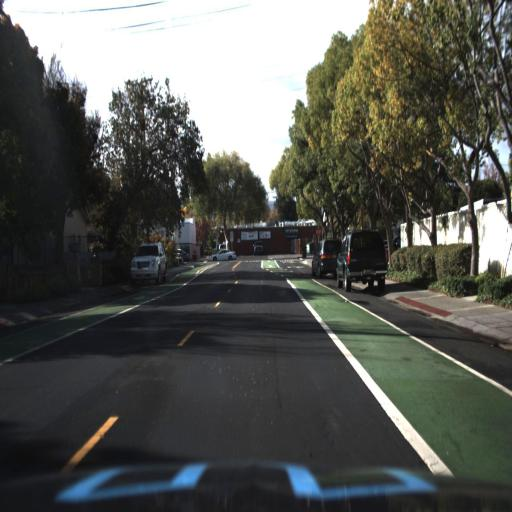car: (335, 228, 390, 294), (125, 236, 167, 286), (303, 237, 338, 277), (207, 243, 236, 262)
